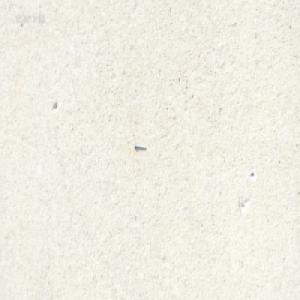Nail: (133, 141, 146, 149)
